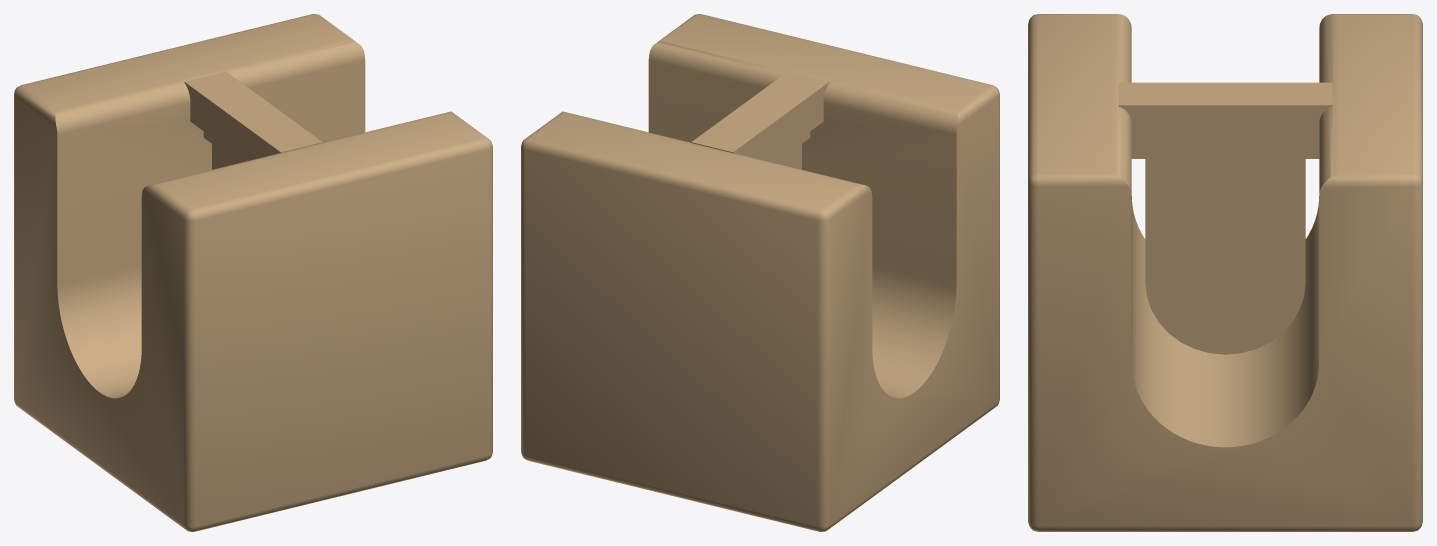
File: mech_gate_oneway_l1.glb
The picture shows the model from 3 angles, left to right: view 1: azimuth 30°, elevation 25°; view 2: azimuth 150°, elevation 25°; view 3: azimuth 270°, elevation 25°; orthographic projection. The views are drawn at different scales.
Visible parts, largest first — view 1: mech_gate_oneway_l1_lod0, anim_flap_lod0; view 2: mech_gate_oneway_l1_lod0, anim_flap_lod0; view 3: mech_gate_oneway_l1_lod0, anim_flap_lod0.
Part boxes in pixels (<box>): mech_gate_oneway_l1_lod0: <box>14,14,492,531</box>; anim_flap_lod0: <box>203,131,244,169</box>; mech_gate_oneway_l1_lod0: <box>521,14,999,531</box>; anim_flap_lod0: <box>769,131,810,169</box>; mech_gate_oneway_l1_lod0: <box>1028,14,1422,531</box>; anim_flap_lod0: <box>1131,144,1319,354</box>.
Size of what is drawn, in the model's own units: 0.059 by 0.059 by 0.059.
